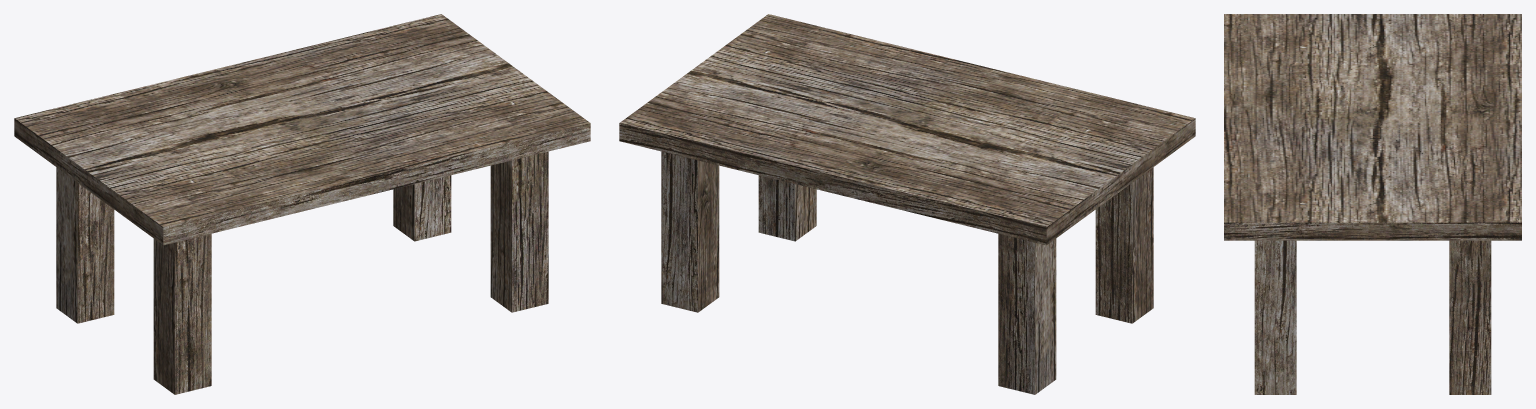
The model's file is Table.fbx.
3 renders of one model, left to right at view 1: azimuth 30°, elevation 25°; view 2: azimuth 150°, elevation 25°; view 3: azimuth 270°, elevation 25°, orthographic.
Parts seen in each view (by area): view 1: Cube; view 2: Cube; view 3: Cube.
Boxes of the visible parts, x1,y1,x2,y2 form: Cube: (14, 14, 590, 394); Cube: (619, 14, 1195, 394); Cube: (1224, 14, 1521, 394).
Bounding box in the file's own units: 5.07 × 2.1 × 3.06.
